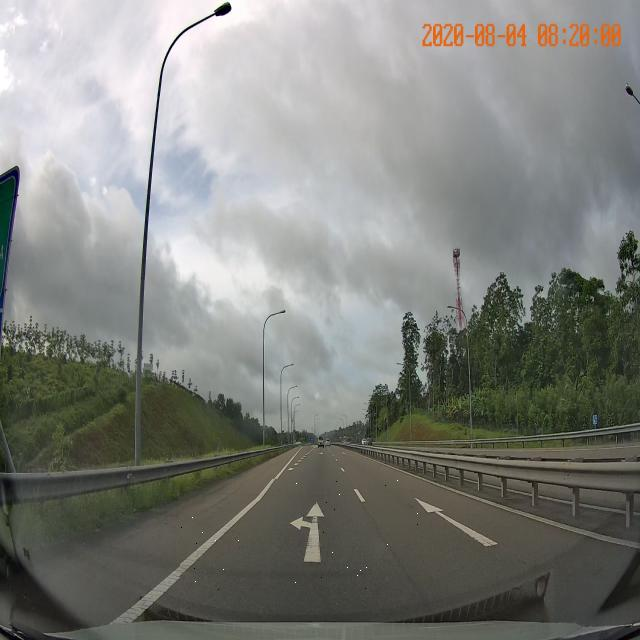forward_lft: (181, 480, 419, 593)
